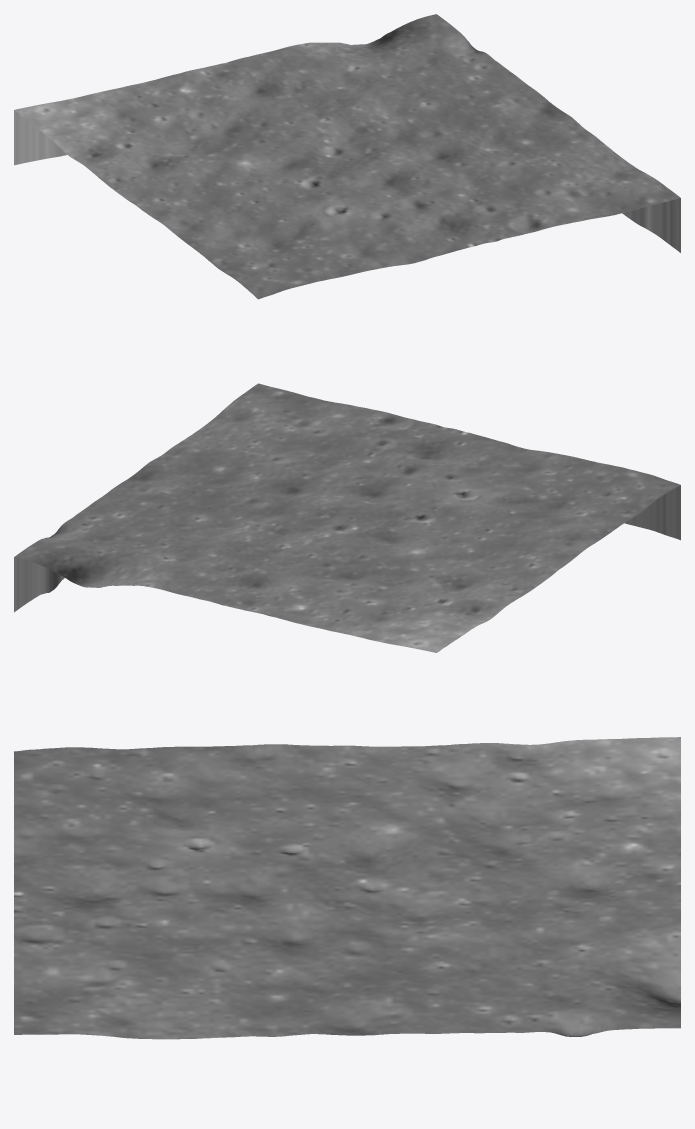
3 renders of one model, top to bottom at view 1: azimuth 30°, elevation 25°; view 2: azimuth 150°, elevation 25°; view 3: azimuth 270°, elevation 25°, orthographic. The views are drawn at different scales.
Bounding box in the file's own units: 638 × 109 × 639.
1 material, 1 textured.
